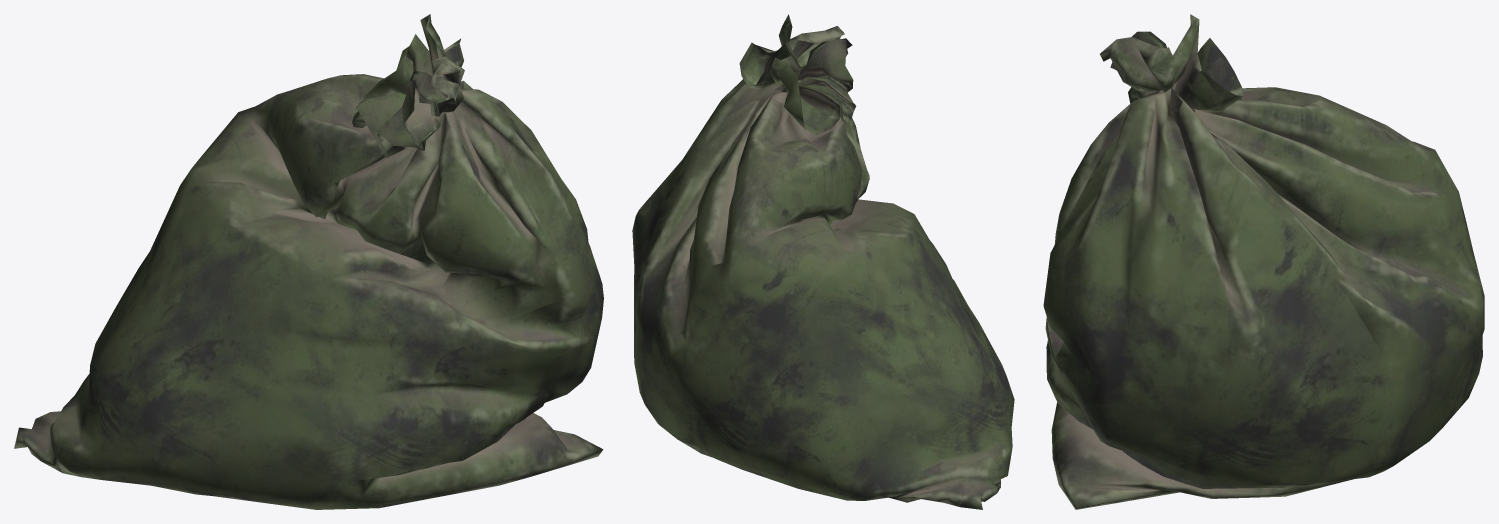
The model's file is SM_Bin_Bag02.glb.
3 renders of one model, left to right at view 1: azimuth 30°, elevation 25°; view 2: azimuth 150°, elevation 25°; view 3: azimuth 270°, elevation 25°, orthographic. The views are drawn at different scales.
Parts seen in each view (by area): view 1: SM_Bin_Bag02; view 2: SM_Bin_Bag02; view 3: SM_Bin_Bag02.
Boxes of the visible parts, left/top/right/bottom form: SM_Bin_Bag02: left=14, top=14, right=603, bottom=509; SM_Bin_Bag02: left=632, top=14, right=1014, bottom=509; SM_Bin_Bag02: left=1043, top=14, right=1484, bottom=509.
Bounding box in the file's own units: 0.6008 × 0.5224 × 0.4745.
1 material, 1 textured.
